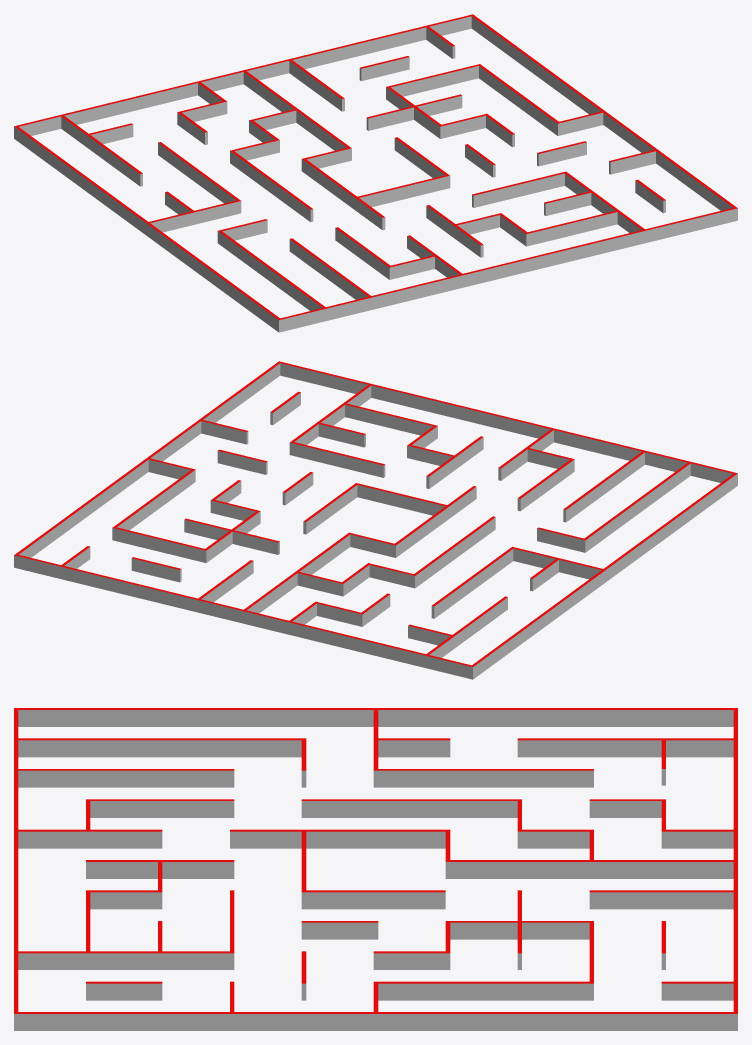
The model's file is minus_collision.obj.
3 views of the same model, one above another, from view 1: azimuth 30°, elevation 25°; view 2: azimuth 150°, elevation 25°; view 3: azimuth 270°, elevation 25° (orthographic). The views are drawn at different scales.
Visible parts, largest first — view 1: |MinusMaze|Root|white, |MinusMaze|Root|color; view 2: |MinusMaze|Root|white, |MinusMaze|Root|color; view 3: |MinusMaze|Root|white, |MinusMaze|Root|color.
Boxes of the visible parts, x1,y1,x2,y2 form: |MinusMaze|Root|white: [14, 16, 737, 332]; |MinusMaze|Root|color: [14, 14, 737, 319]; |MinusMaze|Root|white: [14, 363, 737, 679]; |MinusMaze|Root|color: [14, 361, 737, 666]; |MinusMaze|Root|white: [14, 710, 737, 1030]; |MinusMaze|Root|color: [14, 708, 737, 1013].
Size of the model in its own units: 1.93 by 0.05 by 1.93.
